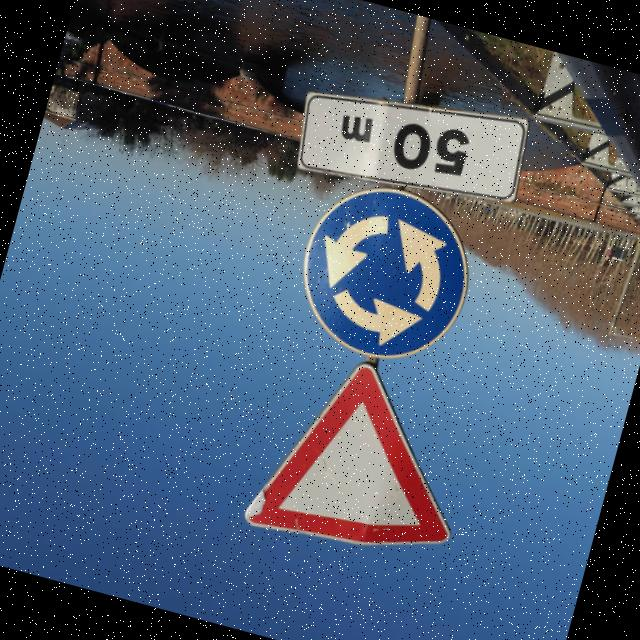give_way: (218, 337, 491, 587)
